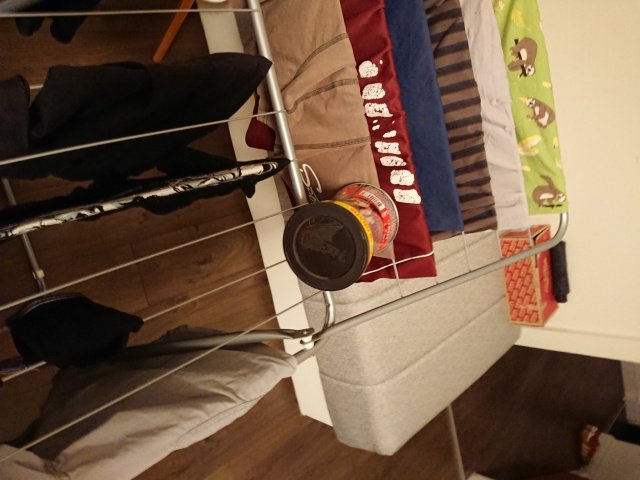Nescafe Classic 225g: (280, 180, 402, 294)
